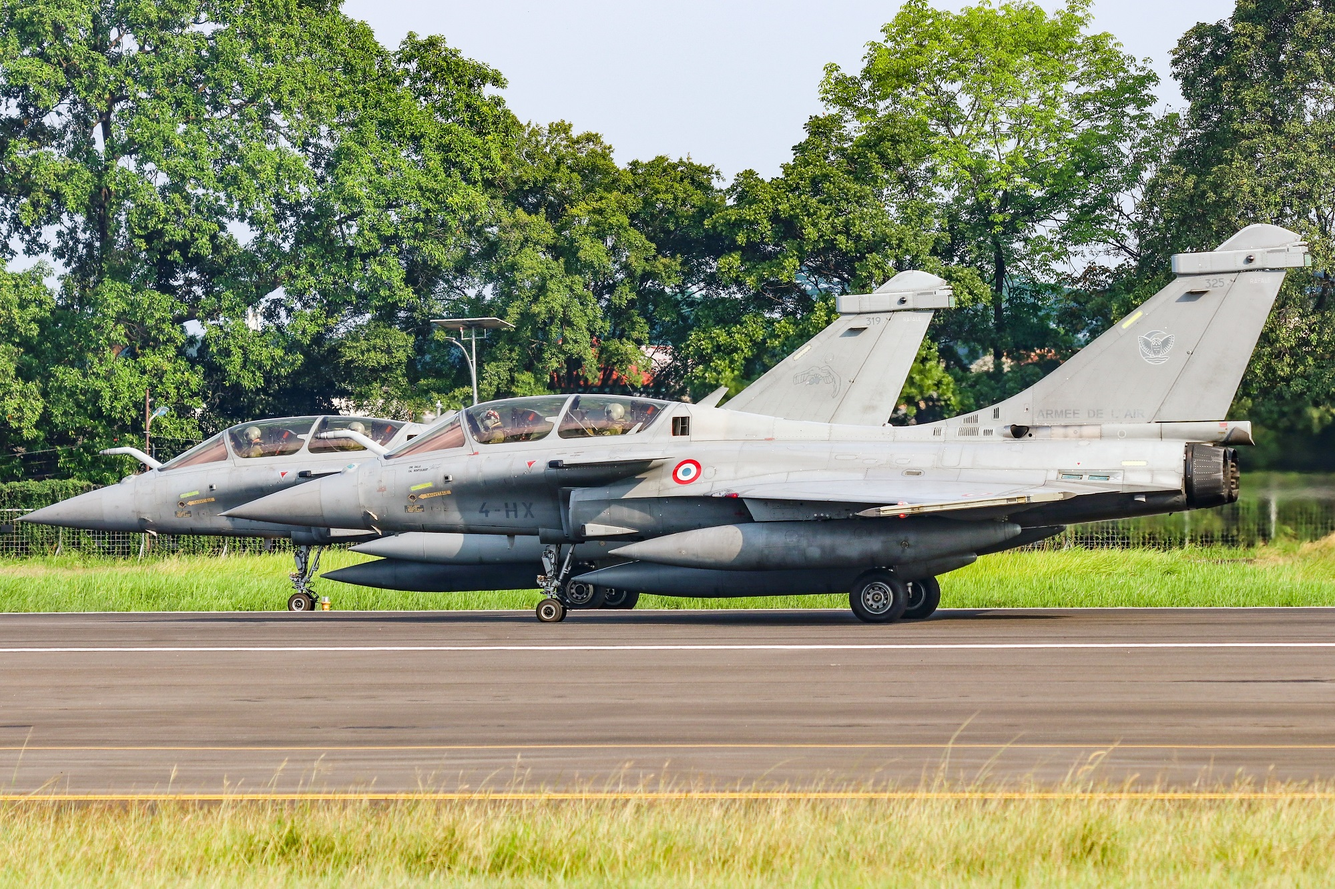Rafale: (220, 216, 1315, 627), (16, 267, 962, 612)
